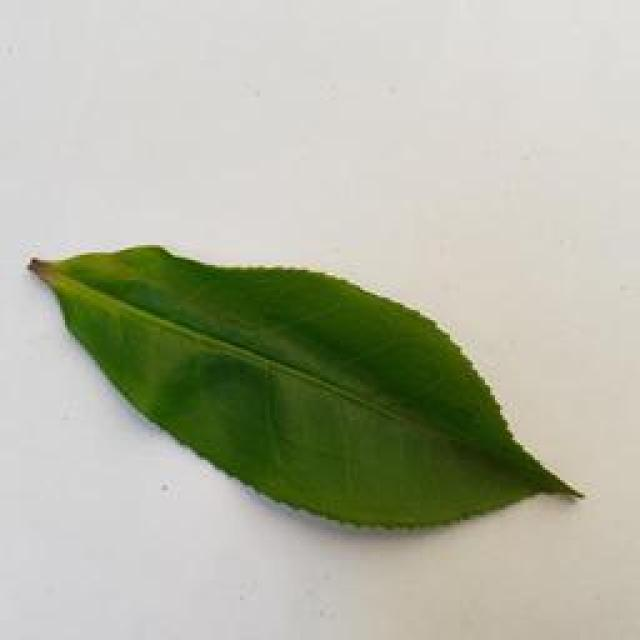Healthy: (26, 232, 610, 548)
